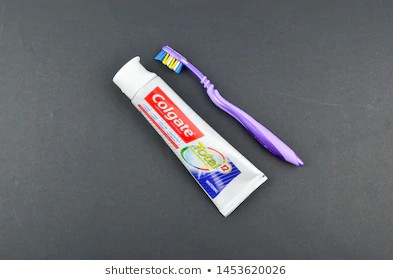colgate-total-150gm: (110, 52, 270, 213)
toothbrush: (152, 40, 236, 108)
